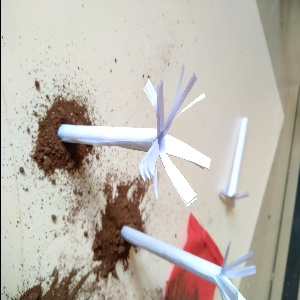weed: (44, 70, 200, 207), (118, 218, 265, 300), (217, 112, 262, 207)
